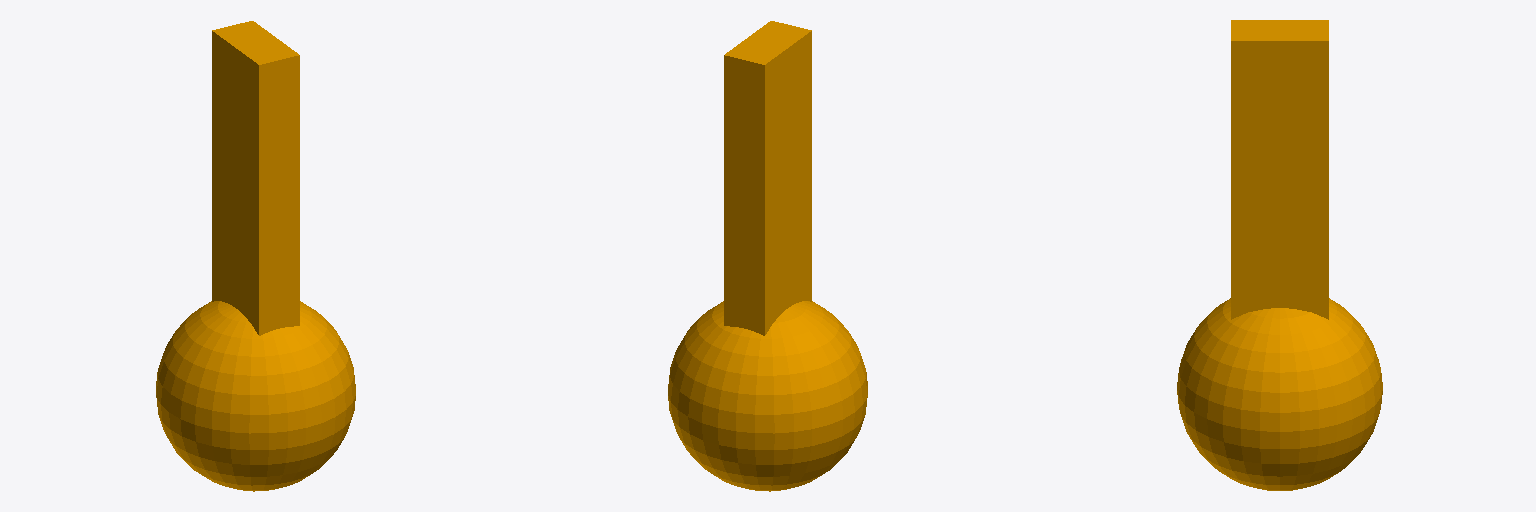
robot.urdf — dummy_spoon.urdf:
<?xml version="1.0"?>
<robot name="dummy_spoon.urdf">
  <link name="spoon">
  <!-- handle -->
    <visual>
      <geometry>
        <box size="0.08 0.16 0.7"/>
      </geometry>
    </visual>
    <collision>
      <geometry>
        <box size="0.08 0.16 0.7"/>
      </geometry>
    </collision>
    <inertial>
      <mass value="0.02"/>
      <inertia ixx="1.0" iyy="1.0" izz="1.0" ixy="0" ixz="0" iyz="0"/>
    </inertial>
    <!-- bowl -->
    <visual>
      <origin xyz="0 0 -0.3" rpy="0 0 0"/>
      <geometry>
        <sphere radius="0.17"/>
      </geometry>
    </visual>
    <collision>
      <origin xyz="0 0 -0.3" rpy="0 0 0"/>
      <geometry>
        <sphere radius="0.17"/>
      </geometry>
    </collision>
    <inertial>
      <origin xyz="0 0 -0.3" rpy="0 0 0"/>
      <mass value="0.03"/>
      <inertia ixx="1.0" iyy="1.0" izz="1.0" ixy="0" ixz="0" iyz="0"/>
    </inertial>
  </link>
</robot>

--- What the picture shows (computed from the rendered views, not written in the file) ---
The picture shows the robot from 3 angles, left to right: view 1: azimuth 30°, elevation 25°; view 2: azimuth 150°, elevation 25°; view 3: azimuth 270°, elevation 25°; orthographic projection.
Robot: dummy_spoon.urdf — 1 links, 0 joints (none); root link spoon; default pose: every joint at zero.
Visible links, largest first — view 1: spoon; view 2: spoon; view 3: spoon.
Link boxes in pixels (box(x1,y1,x2,y2)): spoon: box(156, 21, 355, 491); spoon: box(668, 21, 867, 491); spoon: box(1177, 20, 1382, 490).
Size in the robot's own frame: 0.34 by 0.34 by 0.82 metres.
Geometry: primitives only (box / cylinder / sphere), no mesh files.
